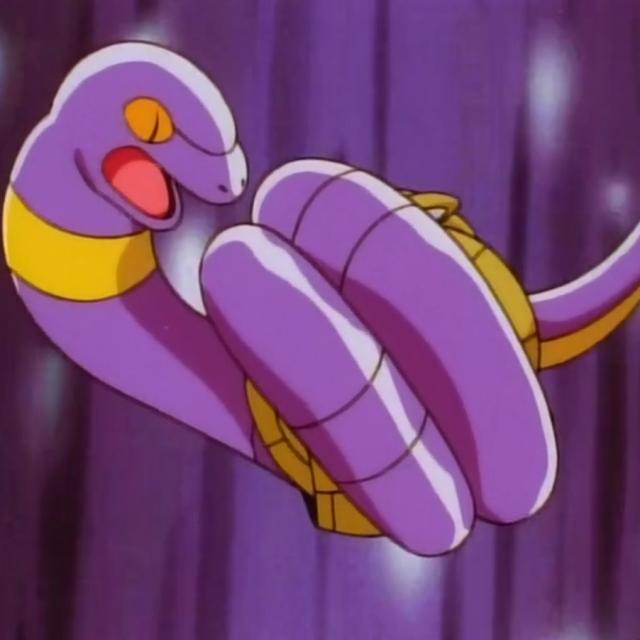Ekans: (0, 32, 563, 546)
